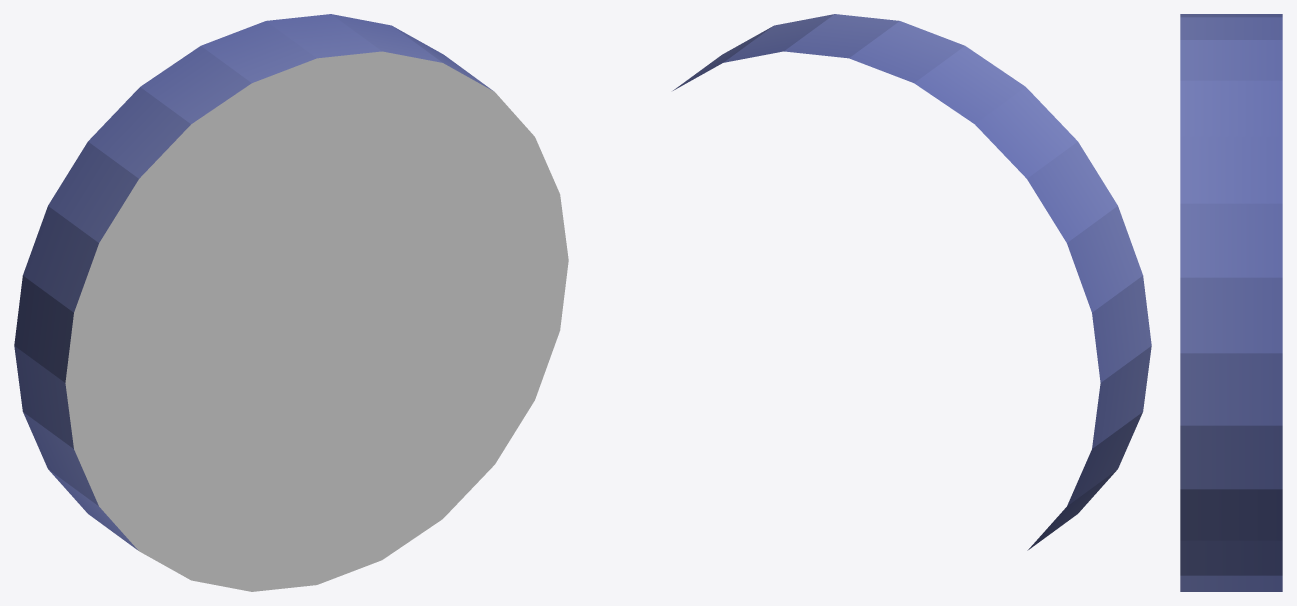
File: JacksonStormWheel.glb
3 views of the same model, side by side, from view 1: azimuth 30°, elevation 25°; view 2: azimuth 150°, elevation 25°; view 3: azimuth 270°, elevation 25° (orthographic).
Visible parts, largest first — view 1: JacksonStormWheel; view 2: JacksonStormWheel; view 3: JacksonStormWheel.
Part boxes in pixels (x1,y1,x2,y2): JacksonStormWheel: [14, 14, 568, 591]; JacksonStormWheel: [673, 14, 1151, 550]; JacksonStormWheel: [1180, 14, 1282, 591].
Size of the model in its own units: 1.11 by 1.11 by 0.1962.
